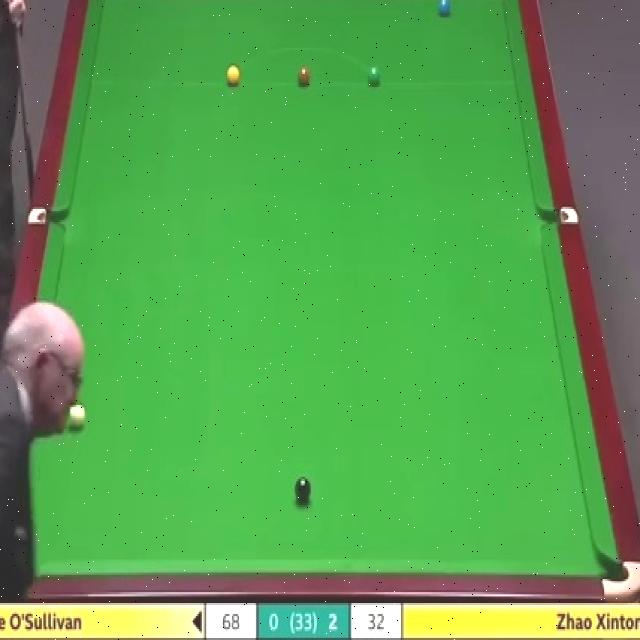black-ball: (293, 476, 312, 504)
blue-ball: (437, 0, 450, 15)
brown-ball: (296, 63, 311, 87)
green-ball: (365, 66, 381, 88)
white-ball: (68, 400, 86, 429)
yellow-ball: (226, 63, 240, 86)
